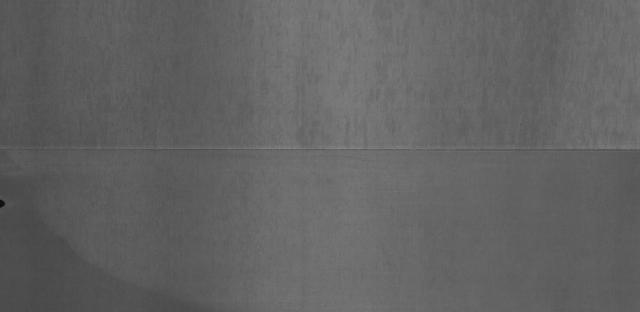punching_hole: (0, 197, 8, 208)
welding_line: (0, 139, 640, 162)
